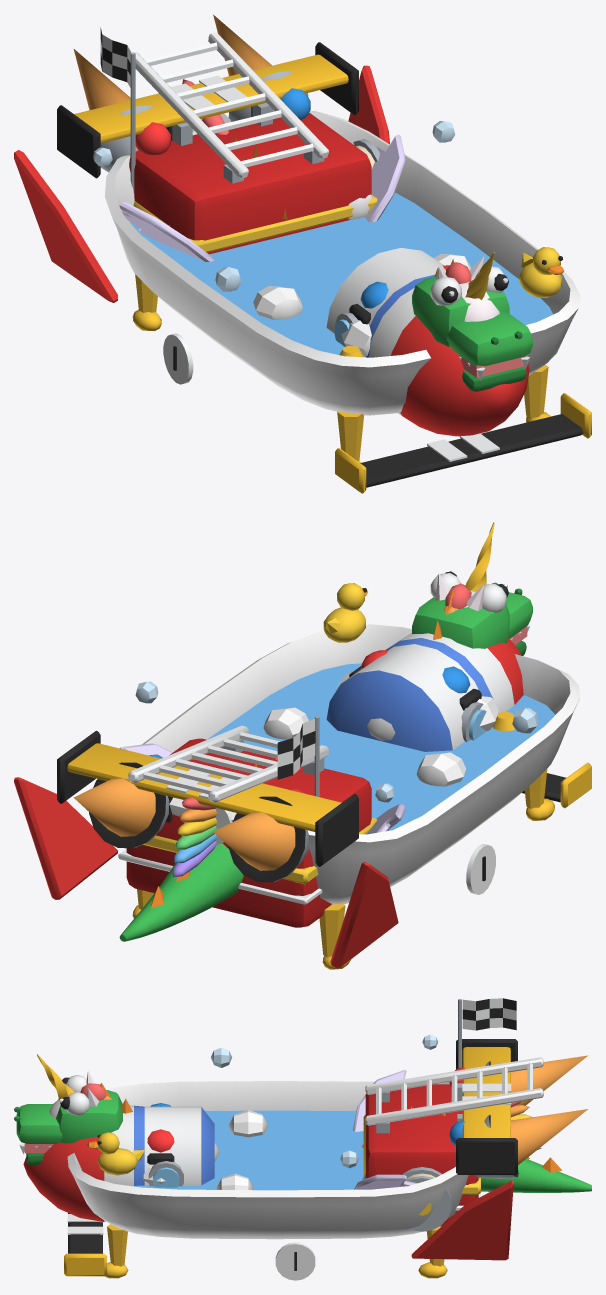
File: themes.glb
3 views of the same model, one above another, from view 1: azimuth 30°, elevation 25°; view 2: azimuth 150°, elevation 25°; view 3: azimuth 270°, elevation 25° (orthographic). The views are drawn at different scales.
Parts seen in each view (by area): view 1: corps_baignoire, corps_pompier, corps_fusee, corps_classique, corps_dino, corps_licorne, anim_flamme.002, anim_flamme; view 2: corps_baignoire, corps_fusee, corps_pompier, corps_classique, corps_dino, anim_queue_dino, anim_flamme.002, anim_flamme, corps_licorne, anim_queue_licorne; view 3: corps_baignoire, corps_fusee, corps_pompier, corps_classique, corps_dino, corps_licorne, anim_queue_dino, anim_flamme, anim_flamme.002.
Part boxes in pixels (bbox=[...]): corps_baignoire: bbox=[104, 110, 580, 462]; corps_pompier: bbox=[129, 32, 449, 357]; corps_fusee: bbox=[14, 65, 529, 436]; corps_classique: bbox=[57, 27, 591, 493]; corps_dino: bbox=[234, 135, 532, 391]; corps_licorne: bbox=[119, 134, 499, 321]; anim_flamme.002: bbox=[73, 49, 130, 110]; anim_flamme: bbox=[213, 14, 271, 75]; corps_baignoire: bbox=[132, 583, 580, 969]; corps_fusee: bbox=[14, 633, 523, 968]; corps_pompier: bbox=[118, 650, 515, 927]; corps_classique: bbox=[57, 716, 591, 894]; corps_dino: bbox=[255, 570, 532, 767]; anim_queue_dino: bbox=[119, 843, 243, 941]; anim_flamme.002: bbox=[213, 812, 295, 870]; anim_flamme: bbox=[73, 778, 155, 836]; corps_licorne: bbox=[120, 522, 494, 834]; anim_queue_licorne: bbox=[172, 797, 217, 876]; corps_baignoire: bbox=[67, 1081, 468, 1278]; corps_fusee: bbox=[23, 1061, 518, 1260]; corps_pompier: bbox=[147, 1057, 543, 1231]; corps_classique: bbox=[64, 998, 517, 1280]; corps_dino: bbox=[14, 1075, 445, 1165]; corps_licorne: bbox=[37, 1054, 417, 1189]; anim_queue_dino: bbox=[481, 1157, 591, 1192]; anim_flamme: bbox=[510, 1109, 587, 1164]; anim_flamme.002: bbox=[510, 1055, 588, 1105].
Bounding box in the file's own units: 2.41 × 1.69 × 4.29.
